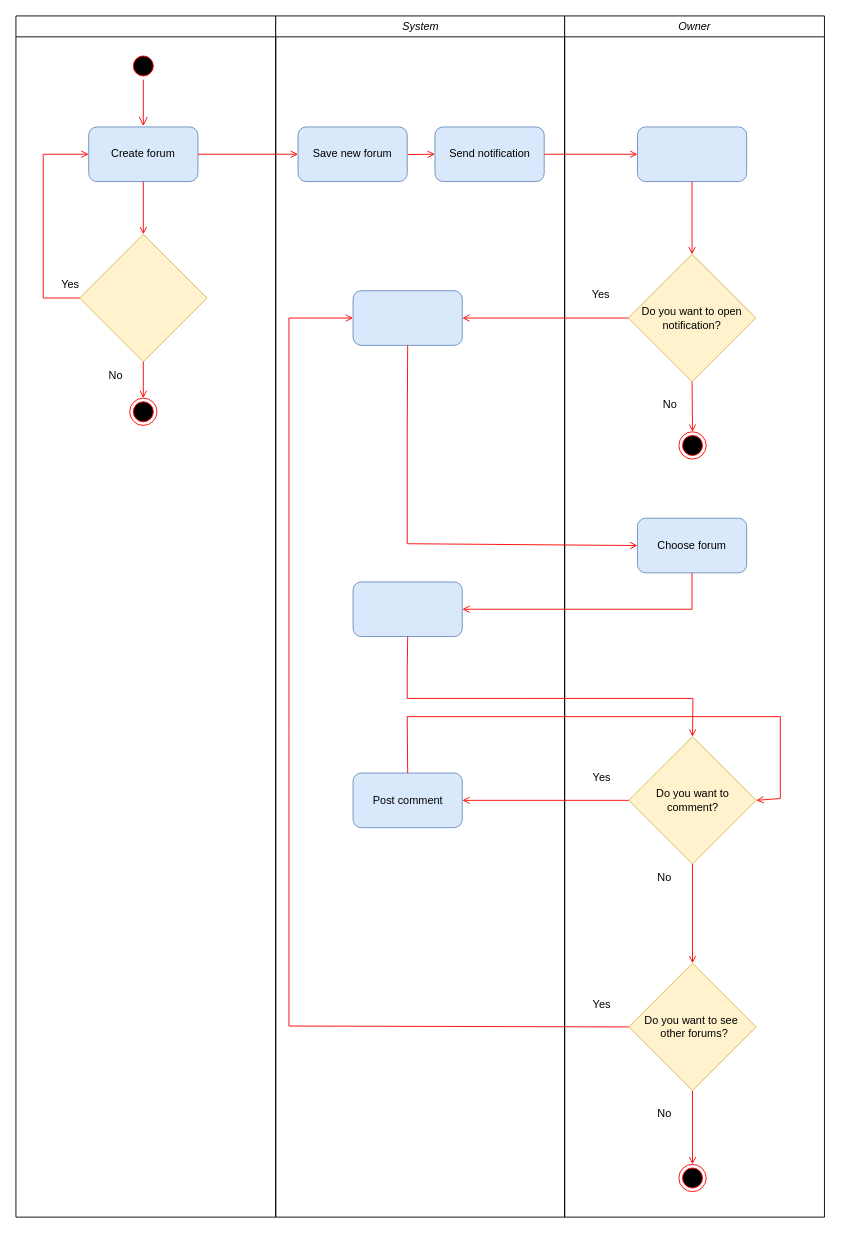
This 841x1233 diagram has some shape labels left out. The shapes that lost their labels are listed below. From the top down, each one's box as (x1, y1, x2, y2) in pixels, then its label:
(637, 126, 747, 182): Notification to new forum
(79, 233, 207, 362): Do you want to create another forum?
(352, 290, 462, 345): Show forums
(15, 15, 276, 1217): Guest1
(352, 581, 462, 637): Show chosen forum
